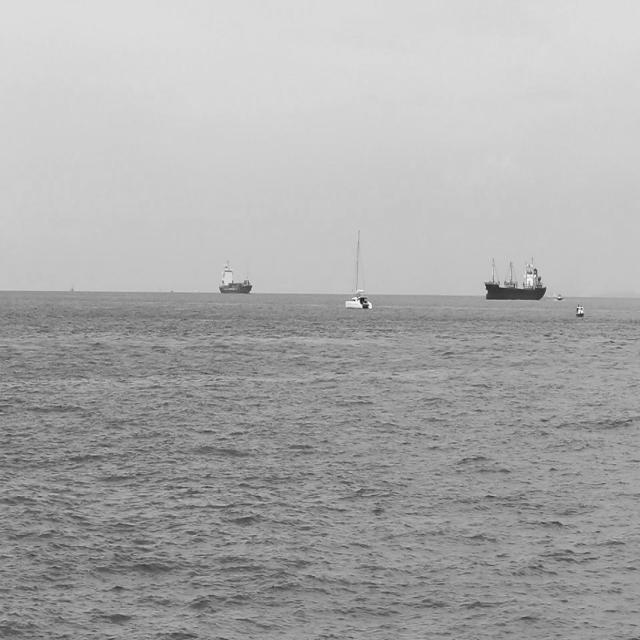boat: (344, 228, 374, 311)
ship: (484, 257, 547, 301), (218, 259, 252, 295), (574, 301, 585, 318), (555, 293, 563, 301)
